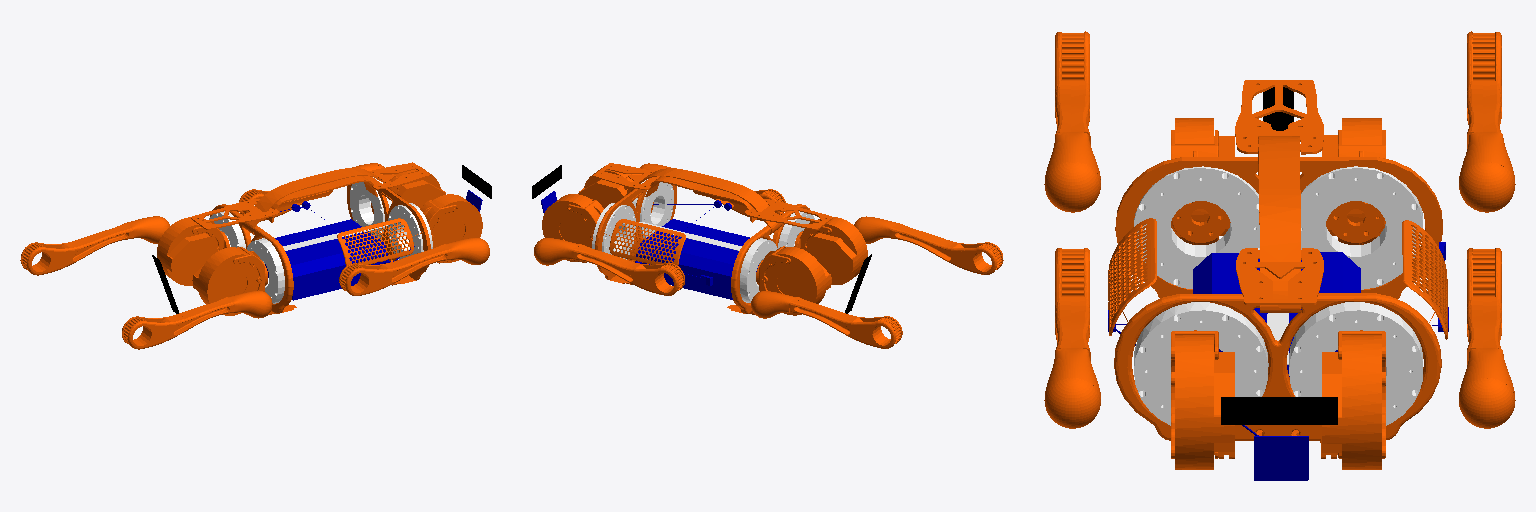
--- What the picture shows (computed from the rendered views, not written in the file) ---
3 views of the same robot in one strip: view 1: azimuth 30°, elevation 25°; view 2: azimuth 150°, elevation 25°; view 3: azimuth 270°, elevation 25° (orthographic).
Model ylo2_description with 29 links and 28 joints (12 revolute, 16 fixed), rooted at body, posed every joint at zero.
Links seen in each view (by area): view 1: trunk, abad_motors, battery, hip3, hip1, lower1, lower3, lower2, hip2, hip0, toe2, toe3 (+1 smaller); view 2: trunk, abad_motors, battery, hip1, hip3, lower0, lower3, lower1, hip0, hip2, toe1, toe0 (+1 smaller); view 3: trunk, abad_motors, hip2, hip0, hip1, hip3, toe1, toe0, toe2, toe3, lower0, lower1 (+6 smaller).
Boxes of the visible links, x1,y1,x2,y2 form: trunk: (191,162,430,315); abad_motors: (209,177,432,303); battery: (265,219,388,300); hip3: (193,247,267,315); hip1: (157,217,229,285); lower1: (20,223,133,275); lower3: (122,297,234,349); lower2: (339,244,451,295); hip2: (420,194,482,263); hip0: (371,166,445,213); toe2: (446,238,489,264); toe3: (228,291,272,318); trunk: (593,163,832,314); abad_motors: (592,179,814,302); battery: (636,219,758,299); hip1: (756,246,831,315); hip3: (794,217,867,284); lower0: (572,244,684,295); lower3: (890,223,1003,274); lower1: (789,297,902,348); hip0: (542,194,603,262); hip2: (578,164,653,212); toe1: (751,291,795,318); toe0: (534,238,578,265); trunk: (1108,80,1447,458); abad_motors: (1134,166,1422,425); hip2: (1171,330,1234,469); hip0: (1322,330,1385,469); hip1: (1322,118,1385,244); hip3: (1171,118,1234,244); toe1: (1459,132,1515,212); toe0: (1459,348,1515,428); toe2: (1044,348,1100,428); toe3: (1044,132,1100,212); lower0: (1467,248,1501,364); lower1: (1467,31,1501,148).
Size in the robot's own frame: 0.7021 by 0.3491 by 0.1793 metres.
Meshes: 11 distinct files referenced, 18 mesh visuals loaded (1 binary STL, 8 Collada DAE); not drawn: 5 (reference not matched to a file when rendering).

The robot description file, URDF, robot "ylo2_description":
<?xml version="1.0" ?>
<!-- =================================================================================== -->
<!-- |    This document was autogenerated by xacro from [local-path]/catkin_ws/src/quad-sdk-ylo2-real-robot/quad_simulator/ylo2_description/xacro/ylo2.xacro | -->
<!-- |    EDITING THIS FILE BY HAND IS NOT RECOMMENDED                                 | -->
<!-- =================================================================================== -->
<!-- file for use with quadruped-sdk ylo2 -->
<robot name="ylo2_description">
  <!-- à jour juillet 2023 -->
  <!-- lower leg size, from lower leg axis to end foot -->
  <!-- decalage hauteur axes pattes/abad - vertical difference HIP -> ABAD -->
  <!-- corps complet, sans moteurs, sans rplidar / à jour aout 2023 -->
  <!-- motor+fix+passe-cable+cable / à jour aout 2023 -->
  <!-- moteur+coques+pignon+axe+fixation hip+poulie nylon+passe-cable+cables / à jour aout 2023 -->
  <!-- à jour juillet 2023 -->
  <!-- à jour aout 2023 -->
  <material name="black">
    <color rgba="0.0 0.0 0.0 1.0"/>
  </material>
  <material name="blue">
    <color rgba="0.0 0.0 0.8 1.0"/>
  </material>
  <material name="green">
    <color rgba="0.0 0.8 0.0 1.0"/>
  </material>
  <material name="grey">
    <color rgba="0.2 0.2 0.2 1.0"/>
  </material>
  <material name="silver">
    <color rgba="0.9137254901960784 0.9137254901960784 0.8470588235294118 1.0"/>
  </material>
  <material name="orange">
    <color rgba="1.0 0.4235294117647059 0.0392156862745098 1.0"/>
  </material>
  <material name="brown">
    <color rgba="0.8705882352941177 0.8117647058823529 0.7647058823529411 1.0"/>
  </material>
  <material name="red">
    <color rgba="0.8 0.0 0.0 1.0"/>
  </material>
  <material name="white">
    <color rgba="1.0 1.0 1.0 1.0"/>
  </material>
  <!-- ros_control plugin -->
  <gazebo>
    <plugin filename="libgazebo_ros_control.so" name="gazebo_ros_control">
      <robotNamespace>/ylo2</robotNamespace>
      <robotSimType>gazebo_ros_control/DefaultRobotHWSim</robotSimType>
    </plugin>
    <plugin filename="libground_truth_estimator.so" name="ground_truth_estimator">
      <updateRateHZ>500.0</updateRateHZ>
    </plugin>
  </gazebo>
  <!-- Show the trajectory of trunk center. -->
  <!-- <gazebo>
        <plugin name="3dplot" filename="libLinkPlot3DPlugin.so">
            <frequency>10</frequency>
            <plot>
                <link>body</link>
                <pose>0 0 0 0 0 0</pose>
                <material>Gazebo/Yellow</material>
            </plot>
        </plugin>
    </gazebo> -->
  <!-- Show the trajectory of foot. You can add another trajectory about another foot. -->
  <!-- <gazebo>
        <plugin name="3dplot" filename="libLinkPlot3DPlugin.so">
            <frequency>100</frequency>
            <plot>
                <link>FL_foot</link>
                <pose>0 0 0 0 0 0</pose>
                <material>Gazebo/Green</material>
            </plot>
        </plugin>
    </gazebo> -->
  <gazebo>
    <plugin filename="libgazebo_ros_force.so" name="gazebo_ros_force">
      <bodyName>trunk</bodyName>
      <topicName>/apply_force/trunk</topicName>
    </plugin>
  </gazebo>
  <gazebo reference="imu_link">
    <gravity>true</gravity>
    <sensor name="imu_sensor" type="imu">
      <always_on>true</always_on>
      <update_rate>1000</update_rate>
      <visualize>true</visualize>
      <topic>__default_topic__</topic>
      <plugin filename="libgazebo_ros_imu_sensor.so" name="imu_plugin">
        <topicName>trunk_imu</topicName>
        <bodyName>imu_link</bodyName>
        <updateRateHZ>1000.0</updateRateHZ>
        <gaussianNoise>0.0</gaussianNoise>
        <xyzOffset>0 0 0</xyzOffset>
        <rpyOffset>0 0 0</rpyOffset>
        <frameName>imu_link</frameName>
      </plugin>
      <pose>0 0 0 0 0 0</pose>
    </sensor>
  </gazebo>
  <!-- Foot contacts. -->
  <!-- <gazebo reference="lower0">
        <sensor name="FR_foot_contact" type="contact">
        <update_rate>100</update_rate>
        <plugin name="contactPlugin" filename="libunitreeFootContactPlugin.so"/>
        <contact>
            <collision>FR_calf_fixed_joint_lump__FR_foot_collision_1</collision>
        </contact>
        </sensor>
    </gazebo>
    <gazebo reference="lower1">
        <sensor name="FL_foot_contact" type="contact">
        <update_rate>100</update_rate>
        <plugin name="contactPlugin" filename="libunitreeFootContactPlugin.so"/>
        <contact>
            <collision>FL_calf_fixed_joint_lump__FL_foot_collision_1</collision>
        </contact>
        </sensor>
    </gazebo>
    <gazebo reference="lower2">
        <sensor name="RR_foot_contact" type="contact">
        <update_rate>100</update_rate>
        <plugin name="contactPlugin" filename="libunitreeFootContactPlugin.so"/>
        <contact>
            <collision>RR_calf_fixed_joint_lump__RR_foot_collision_1</collision>
        </contact>
        </sensor>
    </gazebo>
    <gazebo reference="lower3">
        <sensor name="RL_foot_contact" type="contact">
        <update_rate>100</update_rate>
        <plugin name="contactPlugin" filename="libunitreeFootContactPlugin.so"/>
        <contact>
            <collision>RL_calf_fixed_joint_lump__RL_foot_collision_1</collision>
        </contact>
        </sensor>
    </gazebo> -->
  <gazebo reference="toe0">
    <sensor name="toe0_contact" type="contact">
      <plugin filename="libgazebo_ros_bumper.so" name="toe0_plugin">
        <alwaysOn>true</alwaysOn>
        <updateRate>500</updateRate>
        <bumperTopicName>gazebo/toe0_contact_state</bumperTopicName>
        <frameName>world</frameName>
      </plugin>
      <contact>
        <collision>toe0_collision</collision>
      </contact>
      <update_rate>500</update_rate>
    </sensor>
  </gazebo>
  <gazebo reference="toe1">
    <sensor name="toe1_contact" type="contact">
      <plugin filename="libgazebo_ros_bumper.so" name="toe1_plugin">
        <alwaysOn>true</alwaysOn>
        <updateRate>500</updateRate>
        <bumperTopicName>gazebo/toe1_contact_state</bumperTopicName>
        <frameName>world</frameName>
      </plugin>
      <contact>
        <collision>toe1_collision</collision>
      </contact>
      <update_rate>500</update_rate>
    </sensor>
  </gazebo>
  <gazebo reference="toe2">
    <sensor name="toe2_contact" type="contact">
      <plugin filename="libgazebo_ros_bumper.so" name="toe2_plugin">
        <alwaysOn>true</alwaysOn>
        <updateRate>500</updateRate>
        <bumperTopicName>gazebo/toe2_contact_state</bumperTopicName>
        <frameName>world</frameName>
      </plugin>
      <contact>
        <collision>toe2_collision</collision>
      </contact>
      <update_rate>500</update_rate>
    </sensor>
  </gazebo>
  <gazebo reference="toe3">
    <sensor name="toe3_contact" type="contact">
      <plugin filename="libgazebo_ros_bumper.so" name="toe3_plugin">
        <alwaysOn>true</alwaysOn>
        <updateRate>500</updateRate>
        <bumperTopicName>gazebo/toe3_contact_state</bumperTopicName>
        <frameName>world</frameName>
      </plugin>
      <contact>
        <collision>toe3_collision</collision>
      </contact>
      <update_rate>500</update_rate>
    </sensor>
  </gazebo>
  <!-- Visualization of Foot contacts. -->
  <!-- <gazebo reference="toe0">
        <visual>
            <plugin name="drawForcePlugin" filename="libunitreeDrawForcePlugin.so">
                <topicName>FR_foot_contact</topicName>
            </plugin>
        </visual>
    </gazebo>
    <gazebo reference="toe1">
        <visual>
            <plugin name="drawForcePlugin" filename="libunitreeDrawForcePlugin.so">
                <topicName>FL_foot_contact</topicName>
            </plugin>
        </visual>
    </gazebo>
    <gazebo reference="toe2">
        <visual>
            <plugin name="drawForcePlugin" filename="libunitreeDrawForcePlugin.so">
                <topicName>RR_foot_contact</topicName>
            </plugin>
        </visual>
    </gazebo>
    <gazebo reference="toe3">
        <visual>
            <plugin name="drawForcePlugin" filename="libunitreeDrawForcePlugin.so">
                <topicName>RL_foot_contact</topicName>
            </plugin>
        </visual>
    </gazebo> -->
  <gazebo reference="body">
    <material>Gazebo/Green</material>
    <turnGravityOff>false</turnGravityOff>
  </gazebo>
  <gazebo reference="trunk">
    <mu1>0.2</mu1>
    <mu2>0.2</mu2>
    <kp value="1000000.0"/>
    <kd value="1.0"/>
  </gazebo>
  <gazebo reference="stick_link">
    <mu1>0.2</mu1>
    <mu2>0.2</mu2>
    <material>Gazebo/White</material>
  </gazebo>
  <gazebo reference="imu_link">
    <mu1>0.2</mu1>
    <mu2>0.2</mu2>
    <material>Gazebo/Red</material>
  </gazebo>
  <!-- FL leg -->
  <gazebo reference="hip0">
    <mu1>0.2</mu1>
    <mu2>0.2</mu2>
    <material>Gazebo/DarkGrey</material>
  </gazebo>
  <gazebo reference="upper0">
    <mu1>0.2</mu1>
    <mu2>0.2</mu2>
    <self_collide>0</self_collide>
    <material>Gazebo/DarkGrey</material>
    <kp value="1000000.0"/>
    <kd value="1.0"/>
  </gazebo>
  <gazebo reference="lower0">
    <mu1>0.2</mu1>
    <mu2>0.2</mu2>
    <self_collide>0</self_collide>
  </gazebo>
  <gazebo reference="toe0">
    <mu1>0.6</mu1>
    <mu2>0.6</mu2>
    <self_collide>0</self_collide>
    <material>Gazebo/DarkGrey</material>
    <kp value="1000000.0"/>
    <kd value="1.0"/>
  </gazebo>
  <!-- RL leg -->
  <gazebo reference="hip1">
    <mu1>0.2</mu1>
    <mu2>0.2</mu2>
    <material>Gazebo/DarkGrey</material>
  </gazebo>
  <gazebo reference="upper1">
    <mu1>0.2</mu1>
    <mu2>0.2</mu2>
    <self_collide>0</self_collide>
    <material>Gazebo/DarkGrey</material>
    <kp value="1000000.0"/>
    <kd value="1.0"/>
  </gazebo>
  <gazebo reference="lower1">
    <mu1>0.2</mu1>
    <mu2>0.2</mu2>
    <self_collide>0</self_collide>
  </gazebo>
  <gazebo reference="toe1">
    <mu1>0.6</mu1>
    <mu2>0.6</mu2>
    <self_collide>0</self_collide>
    <material>Gazebo/DarkGrey</material>
    <kp value="1000000.0"/>
    <kd value="1.0"/>
  </gazebo>
  <!-- FR leg -->
  <gazebo reference="hip2">
    <mu1>0.2</mu1>
    <mu2>0.2</mu2>
    <material>Gazebo/DarkGrey</material>
  </gazebo>
  <gazebo reference="upper2">
    <mu1>0.2</mu1>
    <mu2>0.2</mu2>
    <self_collide>0</self_collide>
    <material>Gazebo/DarkGrey</material>
    <kp value="1000000.0"/>
    <kd value="1.0"/>
  </gazebo>
  <gazebo reference="lower2">
    <mu1>0.2</mu1>
    <mu2>0.2</mu2>
    <self_collide>0</self_collide>
  </gazebo>
  <gazebo reference="toe2">
    <mu1>0.6</mu1>
    <mu2>0.6</mu2>
    <self_collide>0</self_collide>
    <material>Gazebo/DarkGrey</material>
    <kp value="1000000.0"/>
    <kd value="1.0"/>
  </gazebo>
  <!-- RR leg -->
  <gazebo reference="hip3">
    <mu1>0.2</mu1>
    <mu2>0.2</mu2>
    <material>Gazebo/DarkGrey</material>
  </gazebo>
  <gazebo reference="upper3">
    <mu1>0.2</mu1>
    <mu2>0.2</mu2>
    <self_collide>0</self_collide>
    <material>Gazebo/DarkGrey</material>
    <kp value="1000000.0"/>
    <kd value="1.0"/>
  </gazebo>
  <gazebo reference="lower3">
    <mu1>0.2</mu1>
    <mu2>0.2</mu2>
    <self_collide>0</self_collide>
  </gazebo>
  <gazebo reference="toe3">
    <mu1>0.6</mu1>
    <mu2>0.6</mu2>
    <self_collide>0</self_collide>
    <material>Gazebo/DarkGrey</material>
    <kp value="1000000.0"/>
    <kd value="1.0"/>
  </gazebo>
  <link name="body">
    <visual>
      <origin rpy="0 0 0" xyz="0 0 0"/>
      <geometry>
        <box size="0.001 0.001 0.001"/>
      </geometry>
    </visual>
  </link>
  <joint name="floating_base" type="fixed">
    <origin rpy="0 0 0" xyz="0 0 0"/>
    <parent link="body"/>
    <child link="trunk"/>
  </joint>
  <link name="trunk">
    <visual name="body_visual">
      <origin rpy="0 0 0" xyz="0.0 0.0 0.0"/>
      <geometry>
        <mesh filename="package://ylo2_description/meshes/body/textured/ylo2_textured_body.dae" scale="1 1 1"/>
      </geometry>
      <material name="orange"/>
    </visual>
    <collision>
      <origin rpy="0 0 0" xyz="-0.02 0.003 0.024"/>
      <geometry>
        <box size="0.26 0.18 0.14"/>
      </geometry>
    </collision>
    <inertial>
      <origin rpy="0 0 0" xyz="0.03250797 0.00737083 0.03316464"/>
      <mass value="4.076"/>
      <inertia ixx="0.01982157" ixy="-2.989e-05" ixz="-0.0003756" iyy="0.0781948" iyz="-1.253e-05" izz="0.08412247"/>
    </inertial>
  </link>
  <link name="abad_motors">
    <visual>
      <origin rpy="0 0 0" xyz="0.0 0.0 0.0"/>
      <geometry>
        <mesh filename="package://ylo2_description/meshes/body/textured/ylo2_textured_abad_motors.dae" scale="1 1 1"/>
      </geometry>
      <material name="white"/>
    </visual>
  </link>
  <joint name="abad_motors_joint" type="fixed">
    <parent link="trunk"/>
    <child link="abad_motors"/>
    <origin rpy="0 0 0" xyz="0 0 0"/>
  </joint>
  <link name="battery">
    <visual>
      <origin rpy="0 0 0" xyz="0.0 0.0 0.0"/>
      <geometry>
        <mesh filename="package://ylo2_description/meshes/body/battery.stl" scale="1 1 1"/>
      </geometry>
      <material name="blue"/>
    </visual>
  </link>
  <joint name="battery_joint" type="fixed">
    <parent link="trunk"/>
    <child link="battery"/>
    <origin rpy="0 0 0" xyz="0 0 0"/>
  </joint>
  <link name="covers">
    <visual>
      <origin rpy="0 0 0" xyz="0.0 0.0 0.0"/>
      <geometry>
        <mesh filename="package://ylo2_description/meshes/body/textured/ylo2_textured_cover.dae" scale="1 1 1"/>
      </geometry>
      <material name="orange"/>
    </visual>
  </link>
  <joint name="covers_joint" type="fixed">
    <parent link="trunk"/>
    <child link="covers"/>
    <origin rpy="0 0 0" xyz="0 0 0"/>
  </joint>
  <link name="accessories">
    <visual>
      <origin rpy="0 0 0" xyz="0.0 0.0 0.0"/>
      <geometry>
        <mesh filename="package://ylo2_description/meshes/body/textured/accessories.dae" scale="1 1 1"/>
      </geometry>
      <material name="blue"/>
    </visual>
  </link>
  <joint name="accessories_joint" type="fixed">
    <parent link="trunk"/>
    <child link="accessories"/>
    <origin rpy="0 0 0" xyz="0 0 0"/>
  </joint>
  <link name="d435">
    <visual>
      <origin rpy="0 0 0" xyz="0.0 0.003 0.0"/>
      <geometry>
        <mesh filename="package://ylo2_description/meshes/body/textured/ylo2_d435_textured.dae" scale="1 1 1"/>
      </geometry>
      <material name="black"/>
    </visual>
  </link>
  <joint name="d435_joint" type="fixed">
    <parent link="trunk"/>
    <child link="d435"/>
    <origin rpy="0 0 0" xyz="0 0 0"/>
  </joint>
  <link name="t265">
    <visual>
      <origin rpy="0 0 0" xyz="0.002 0.0025 0.0"/>
      <geometry>
        <mesh filename="package://ylo2_description/meshes/body/textured/ylo2_t265_textured.dae" scale="1 1.06 1.04"/>
      </geometry>
      <material name="black"/>
    </visual>
  </link>
  <joint name="t265_joint" type="fixed">
    <parent link="trunk"/>
    <child link="t265"/>
    <origin rpy="0 0 0" xyz="0 0 0"/>
  </joint>
  <joint name="imu_joint" type="fixed">
    <parent link="trunk"/>
    <child link="imu_link"/>
    <origin rpy="0 0 0" xyz="0 0 0"/>
  </joint>
  <link name="imu_link">
    <inertial>
      <mass value="0.001"/>
      <origin rpy="0 0 0" xyz="0 0 0"/>
      <inertia ixx="0.0001" ixy="0" ixz="0" iyy="0.0001" iyz="0" izz="0.0001"/>
    </inertial>
    <visual>
      <origin rpy="0 0 0" xyz="0 0 0"/>
      <geometry>
        <box size="0.001 0.001 0.001"/>
      </geometry>
      <material name="red"/>
    </visual>
    <collision>
      <origin rpy="0 0 0" xyz="0 0 0"/>
      <geometry>
        <box size=".001 .001 .001"/>
      </geometry>
    </collision>
  </link>
  <link name="hip0">
    <visual name="hip0_visual">
      <origin rpy="0 0 0" xyz="-0.055 0 0"/>
      <geometry>
        <mesh filename="package://ylo2_description/meshes/leg/textured/ylo2texturedhip.dae" scale="1 1 1"/>
      </geometry>
      <material name="orange"/>
    </visual>
    <collision name="hip0_collision">
      <origin rpy="1.5707963267948966 0 0" xyz="0 0 0"/>
      <geometry>
        <cylinder length="0.0099" radius="0.05"/>
      </geometry>
    </collision>
    <inertial>
      <origin rpy="0 0 0" xyz="-0.01857801 -0.01030756 0.00689884"/>
      <mass value="0.552"/>
      <inertia ixx="0.00043998" ixy="-4.63e-06" ixz="-2.717e-05" iyy="0.0007018" iyz="-4.63e-06" izz="0.00043986"/>
    </inertial>
  </link>
  <joint name="8" type="revolute">
    <origin rpy="0 0 0" xyz="0.1695 0.063 0.024"/>
    <parent link="trunk"/>
    <child link="hip0"/>
    <axis xyz="1 0 0"/>
    <dynamics damping="0" friction="0"/>
    <limit effort="15" lower="-0.013962634015954637" upper="0.013962634015954637" velocity="40"/>
  </joint>
  <!-- this link is only for collision -->
  <link name="thigh_shoulder0">
    <collision>
      <origin rpy="1.5707963267948966 0 0" xyz="0 0 0"/>
      <geometry>
        <cylinder length="0.0553" radius="0.05"/>
      </geometry>
    </collision>
  </link>
  <joint name="hip0_fixed" type="fixed">
    <origin rpy="0 0 0" xyz="0 0.096 0"/>
    <parent link="hip0"/>
    <child link="thigh_shoulder0"/>
  </joint>
  <link name="upper0">
    <visual name="upper0_visual">
      <origin rpy="0 0 0" xyz="0 0 0.0"/>
      <geometry>
        <mesh filename="package://ylo2_description/meshes/leg/textured/ylo2_textured_upper_leg.dae" scale="1 1 1"/>
        --&gt;
                    
      </geometry>
      <material name="orange"/>
    </visual>
    <collision>
      <origin rpy="0 1.6207963267948966 0" xyz="0 0.074 -0.07"/>
      <geometry>
        <box size="0.201 0.0374 0.03"/>
      </geometry>
    </collision>
    <inertial>
      <origin rpy="0 0 0" xyz="0.01454697 0.06694306 -0.04580968"/>
      <mass value="1.009"/>
      <inertia ixx="0.0057361" ixy="1.51e-05" ixz="0.00039092" iyy="0.00562867" iyz="-3.266e-05" izz="0.00096304"/>
    </inertial>
  </link>
  <joint name="0" type="revolute">
    <origin rpy="0 1.5707963267948966 0" xyz="0.0 0.02 0"/>
    <parent link="hip0"/>
    <child link="upper0"/>
    <axis xyz="0 -1 0"/>
    <dynamics damping="0" friction="0"/>
    <limit effort="15" lower="-6.283185307179586" upper="6.283185307179586" velocity="40"/>
  </joint>
  <link name="lower0">
    <visual name="lower0_visual">
      <origin rpy="0 0 0" xyz="0 0 0"/>
      <geometry>
        <mesh filename="package://ylo2_description/meshes/leg/textured/lower_leg.dae" scale="1 1 1"/>
        --&gt;
                
      </geometry>
      <material name="orange"/>
    </visual>
    <collision>
      <origin rpy="0 1.4707963267948965 0" xyz="0 0 -0.08"/>
      <geometry>
        <box size="0.19 0.02 0.02"/>
      </geometry>
    </collision>
    <inertial>
      <origin rpy="0 0 0" xyz="0.00198597 0.00042353 -0.05849061"/>
      <mass value="0.235"/>
      <inertia ixx="0.00065666" ixy="0.0" ixz="3.548e-05" iyy="0.00067446" iyz="-0.0" izz="4.729e-05"/>
    </inertial>
  </link>
  <joint name="1" type="revolute">
    <origin rpy="0 -3.141592653589793 0" xyz="-0.001 0.075 -0.215"/>
    <parent link="upper0"/>
    <child link="lower0"/>
    <axis xyz="0 1 0"/>
    <dynamics damping="0" friction="0"/>
    <limit effort="45" lower="-6.283185307179586" upper="6.283185307179586" velocity="13.33"/>
  </joint>
  <link name="toe0">
    <visual name="toe0_visual">
      <origin rpy="0 0 0" xyz="0.009 0.002 0.069"/>
      <geometry>
        <mesh filename="package://ylo2_description/meshes/leg/fl_foot.dae" scale="1.0 1.0 1.0"/>
        --&gt;
                
      </geometry>
      <material name="orange"/>
    </visual>
    <collision name="toe0_collision">
      <origin rpy="0 0 0" xyz="0 0 0.02"/>
      <geometry>
        <sphere radius="0.022"/>
      </geometry>
      <surface>
        <bounce>
          <restitution_coefficient>0</restitution_coefficient>
          <threshold>1e+06</threshold>
        </bounce>
        <friction>
          <ode>
            <mu>0.2</mu>
            <mu2>0.2</mu2>
          </ode>
          <bullet>
            <rolling_friction>0.3</rolling_friction>
            <friction2>50</friction2>
          </bullet>
        </friction>
        <contact>
          <ode>
            <kp>30000.0</kp>
            <kd>1000.0</kd>
          </ode>
          <bullet>
            <kp>30000.0</kp>
            <kd>1000.0</kd>
            <split_impulse>1</split_impulse>
            <split_impulse_penetration_threshold>-0.01</split_impulse_penetration_threshold>
          </bullet>
        </contact>
      </surface>
    </collision>
    <inertial>
      <mass value="0.035"/>
      <inertia ixx="9.8315e-06" ixy="0.0" ixz="0.0" iyy="9.8315e-06" iyz="0.0" izz="9.8315e-06"/>
    </inertial>
  </link>
  <joint name="jtoe0" type="fixed">
    <origin rpy="0 0 0" xyz="0 0 -0.23"/>
    <parent link="lower0"/>
    <child link="toe0"/>
  </joint>
  <transmission name="transmission_8">
    <type>transmission_interface/SimpleTransmission</type>
    <joint name="8">
      <hardwareInterface>hardware_interface/EffortJointInterface</hardwareInterface>
    </joint>
    <actuator name="motor_8">
      <hardwareInterface>EffortJointInterface</hardwareInterface>
      <mechanicalReduction>1</mechanicalReduction>
    </actuator>
  </transmission>
  <transmission name="transmission_0">
    <type>transmission_interface/SimpleTransmission</type>
    <joint name="0">
      <hardwareInterface>hardware_interface/EffortJointInterface</hardwareInterface>
    </joint>
    <actuator name="motor_0">
      <hardwareInterface>EffortJointInterface</hardwareInterface>
      <mechanicalReduction>1</mechanicalReduction>
    </actuator>
  </transmission>
  <transmission name="transmission_1">
    <type>transmission_interface/SimpleTransmission</type>
    <joint name="1">
      <hardwareInterface>hardware_interface/EffortJointInterface</hardwareInterface>
    </joint>
    <actuator name="motor_1">
      <hardwareInterface>EffortJointInterface</hardwareInterface>
      <mechanicalReduction>1</mechanicalReduction>
    </actuator>
  </transmission>
  <link name="hip1">
    <visual name="hip1_visual">
      <origin rpy="0 3.141592653589793 0" xyz="0.055 0 0"/>
      <geometry>
        <mesh filename="package://ylo2_description/meshes/leg/textured/ylo2texturedhip.dae" scale="1 1 1"/>
      </geometry>
      <material name="orange"/>
    </visual>
    <collision name="hip1_collision">
      <origin rpy="1.5707963267948966 0 0" xyz="0 0 0"/>
      <geometry>
        <cylinder length="0.0099" radius="0.05"/>
      </geometry>
    </collision>
    <inertial>
      <origin rpy="0 0 0" xyz="0.01857801 -0.01030756 0.00689884"/>
      <mass value="0.552"/>
      <inertia ixx="0.00043998" ixy="4.63e-06" ixz="2.717e-05" iyy="0.0007018" iyz="-4.63e-06" izz="0.00043986"/>
    </inertial>
  </link>
  <joint name="9" type="revolute">
    <origin rpy="0 0 0" xyz="-0.20950000000000002 0.063 0.024"/>
    <parent link="trunk"/>
    <child link="hip1"/>
    <axis xyz="1 0 0"/>
    <dynamics damping="0" friction="0"/>
    <limit effort="15" lower="-0.013962634015954637" upper="0.013962634015954637" velocity="40"/>
  </joint>
  <!-- this link is only for collision -->
  <link name="thigh_shoulder1">
    <collision>
      <origin rpy="1.5707963267948966 0 0" xyz="0 0 0"/>
      <geometry>
        <cylinder length="0.0553" radius="0.05"/>
      </geometry>
    </collision>
  </link>
  <joint name="hip1_fixed" type="fixed">
    <origin rpy="0 0 0" xyz="0 0.096 0"/>
    <parent link="hip1"/>
    <child link="thigh_shoulder1"/>
  </joint>
  <link name="upper1">
    <visual name="upper1_visual">
      <origin rpy="0 0 0" xyz="0 0 0.0"/>
      <geometry>
        <mesh filename="package://ylo2_description/meshes/leg/textured/ylo2_textured_upper_leg.dae" scale="1 1 1"/>
        --&gt;
                    
      </geometry>
      <material name="orange"/>
    </visual>
    <collision>
      <origin rpy="0 1.6207963267948966 0" xyz="0 0.074 -0.07"/>
      <geometry>
        <box size="0.201 0.0374 0.03"/>
      </geometry>
    </collision>
    <inertial>
      <origin rpy="0 0 0" xyz="0.01454697 0.06694306 -0.04580968"/>
      <mass value="1.009"/>
      <inertia ixx="0.0057361" ixy="1.51e-05" ixz="0.00039092" iyy="0.00562867" iyz="-3.266e-05" izz="0.00096304"/>
    </inertial>
  </link>
  <joint name="2" type="revolute">
    <origin rpy="0 1.5707963267948966 0" xyz="0.0 0.02 0"/>
    <parent link="hip1"/>
    <child link="upper1"/>
    <axis xyz="0 -1 0"/>
    <dynamics damping="0" friction="0"/>
    <limit effort="15" lower="-6.283185307179586" upper="6.283185307179586" velocity="40"/>
  </joint>
  <link name="lower1">
    <visual name="lower1_visual">
      <origin rpy="0 0 0" xyz="0 0 0"/>
      <geometry>
        <mesh filename="package://ylo2_description/meshes/leg/textured/lower_leg.dae" scale="1 1 1"/>
        --&gt;
                
      </geometry>
      <material name="orange"/>
    </visual>
    <collision>
      <origin rpy="0 1.4707963267948965 0" xyz="0 0 -0.08"/>
      <geometry>
        <box size="0.19 0.02 0.02"/>
      </geometry>
    </collision>
    <inertial>
      <origin rpy="0 0 0" xyz="0.00198597 0.00042353 -0.05849061"/>
      <mass value="0.235"/>
      <inertia ixx="0.00065666" ixy="0.0" ixz="3.548e-05" iyy="0.00067446" iyz="-0.0" izz="4.729e-05"/>
    </inertial>
  </link>
  <joint name="3" type="revolute">
    <origin rpy="0 -3.141592653589793 0" xyz="-0.001 0.075 -0.215"/>
    <parent link="upper1"/>
    <child link="lower1"/>
    <axis xyz="0 1 0"/>
    <dynamics damping="0" friction="0"/>
    <limit effort="45" lower="-6.283185307179586" upper="6.283185307179586" velocity="13.33"/>
  </joint>
  <link name="toe1">
    <visual name="toe1_visual">
      <origin rpy="0 0 0" xyz="0.009 0.002 0.069"/>
      <geometry>
        <mesh filename="package://ylo2_description/meshes/leg/fl_foot.dae" scale="1.0 1.0 1.0"/>
        --&gt;
                
      </geometry>
      <material name="orange"/>
    </visual>
    <collision name="toe1_collision">
      <origin rpy="0 0 0" xyz="0 0 0.02"/>
      <geometry>
        <sphere radius="0.022"/>
      </geometry>
      <surface>
        <bounce>
          <restitution_coefficient>0</restitution_coefficient>
          <threshold>1e+06</threshold>
        </bounce>
        <friction>
          <ode>
            <mu>0.2</mu>
            <mu2>0.2</mu2>
          </ode>
          <bullet>
            <rolling_friction>0.3</rolling_friction>
            <friction2>50</friction2>
          </bullet>
        </friction>
        <contact>
          <ode>
            <kp>30000.0</kp>
            <kd>1000.0</kd>
          </ode>
          <bullet>
            <kp>30000.0</kp>
            <kd>1000.0</kd>
            <split_impulse>1</split_impulse>
            <split_impulse_penetration_threshold>-0.01</split_impulse_penetration_threshold>
          </bullet>
        </contact>
      </surface>
    </collision>
    <inertial>
      <mass value="0.035"/>
      <inertia ixx="9.8315e-06" ixy="0.0" ixz="0.0" iyy="9.8315e-06" iyz="0.0" izz="9.8315e-06"/>
    </inertial>
  </link>
  <joint name="jtoe1" type="fixed">
    <origin rpy="0 0 0" xyz="0 0 -0.23"/>
    <parent link="lower1"/>
    <child link="toe1"/>
  </joint>
  <transmission name="transmission_9">
    <type>transmission_interface/SimpleTransmission</type>
    <joint name="9">
      <hardwareInterface>hardware_interface/EffortJointInterface</hardwareInterface>
    </joint>
    <actuator name="motor_9">
      <hardwareInterface>EffortJointInterface</hardwareInterface>
      <mechanicalReduction>1</mechanicalReduction>
    </actuator>
  </transmission>
  <transmission name="transmission_2">
    <type>transmission_interface/SimpleTransmission</type>
    <joint name="2">
      <hardwareInterface>hardware_interface/EffortJointInterface</hardwareInterface>
    </joint>
    <actuator name="motor_2">
      <hardwareInterface>EffortJointInterface</hardwareInterface>
      <mechanicalReduction>1</mechanicalReduction>
    </actuator>
  </transmission>
  <transmission name="transmission_3">
    <type>transmission_interface/SimpleTransmission</type>
    <joint name="3">
      <hardwareInterface>hardware_interface/EffortJointInterface</hardwareInterface>
    </joint>
    <actuator name="motor_3">
      <hardwareInterface>EffortJointInterface</hardwareInterface>
      <mechanicalReduction>1</mechanicalReduction>
    </actuator>
  </transmission>
  <link name="hip2">
    <visual name="hip2_visual">
      <origin rpy="3.141592653589793 0 0" xyz="-0.055 0 0"/>
      <geometry>
        <mesh filename="package://ylo2_description/meshes/leg/textured/ylo2texturedhip.dae" scale="1 1 1"/>
      </geometry>
      <material name="orange"/>
    </visual>
    <collision name="hip2_collision">
      <origin rpy="1.5707963267948966 0 0" xyz="0 0 0"/>
      <geometry>
        <cylinder length="0.0099" radius="0.05"/>
      </geometry>
    </collision>
    <inertial>
      <origin rpy="0 0 0" xyz="-0.01857801 0.01030756 0.00689884"/>
      <mass value="0.552"/>
      <inertia ixx="0.00043998" ixy="4.63e-06" ixz="-2.717e-05" iyy="0.0007018" iyz="4.63e-06" izz="0.00043986"/>
    </inertial>
  </link>
  <joint name="10" type="revolute">
    <origin rpy="0 0 0" xyz="0.1695 -0.052000000000000005 0.024"/>
    <parent link="trunk"/>
    <child link="hip2"/>
    <axis xyz="1 0 0"/>
    <dynamics damping="0" friction="0"/>
    <limit effort="15" lower="-0.013962634015954637" upper="0.013962634015954637" velocity="40"/>
  </joint>
  <!-- this link is only for collision -->
  <link name="thigh_shoulder2">
    <collision>
      <origin rpy="1.5707963267948966 0 0" xyz="0 0 0"/>
      <geometry>
        <cylinder length="0.0553" radius="0.05"/>
      </geometry>
    </collision>
  </link>
  <joint name="hip2_fixed" type="fixed">
    <origin rpy="0 0 0" xyz="0 -0.096 0"/>
    <parent link="hip2"/>
    <child link="thigh_shoulder2"/>
  </joint>
  <link name="upper2">
    <visual name="upper2_visual">
      <origin rpy="0 0 0" xyz="0 0 0.0"/>
      <geometry>
        <mesh filename="package://ylo2_description/meshes/leg/textured/ylo2_textured_upper_leg.dae" scale="1 -1 1"/>
        --&gt;
                    
      </geometry>
      <material name="orange"/>
    </visual>
    <collision>
      <origin rpy="0 1.6207963267948966 0" xyz="0 -0.074 -0.07"/>
      <geometry>
        <box size="0.201 0.0374 0.03"/>
      </geometry>
    </collision>
    <inertial>
      <origin rpy="0 0 0" xyz="0.01454697 -0.06694306 -0.04580968"/>
      <mass value="1.009"/>
      <inertia ixx="0.0057361" ixy="-1.51e-05" ixz="0.00039092" iyy="0.00562867" iyz="3.266e-05" izz="0.00096304"/>
    </inertial>
  </link>
  <joint name="4" type="revolute">
    <origin rpy="0 1.5707963267948966 0" xyz="0.0 -0.02 0"/>
    <parent link="hip2"/>
    <child link="upper2"/>
    <axis xyz="0 -1 0"/>
    <dynamics damping="0" friction="0"/>
    <limit effort="15" lower="-6.283185307179586" upper="6.283185307179586" velocity="40"/>
  </joint>
  <link name="lower2">
    <visual name="lower2_visual">
      <origin rpy="0 0 0" xyz="0 0 0"/>
      <geometry>
        <mesh filename="package://ylo2_description/meshes/leg/textured/lower_leg.dae" scale="1 1 1"/>
        --&gt;
                
      </geometry>
      <material name="orange"/>
    </visual>
    <collision>
      <origin rpy="0 1.4707963267948965 0" xyz="0 0 -0.08"/>
      <geometry>
        <box size="0.19 0.02 0.02"/>
      </geometry>
    </collision>
    <inertial>
      <origin rpy="0 0 0" xyz="0.00198597 0.00042353 -0.05849061"/>
      <mass value="0.235"/>
      <inertia ixx="0.00065666" ixy="0.0" ixz="3.548e-05" iyy="0.00067446" iyz="-0.0" izz="4.729e-05"/>
    </inertial>
  </link>
  <joint name="5" type="revolute">
    <origin rpy="0 -3.141592653589793 0" xyz="-0.001 -0.075 -0.215"/>
    <parent link="upper2"/>
    <child link="lower2"/>
    <axis xyz="0 1 0"/>
    <dynamics damping="0" friction="0"/>
    <limit effort="45" lower="-6.283185307179586" upper="6.283185307179586" velocity="13.33"/>
  </joint>
  <link name="toe2">
    <visual name="toe2_visual">
      <origin rpy="0 0 0" xyz="0.009 0.0 0.069"/>
      <geometry>
        <mesh filename="package://ylo2_description/meshes/leg/fl_foot.dae" scale="1.0 1.0 1.0"/>
        --&gt;
                
      </geometry>
      <material name="orange"/>
    </visual>
    <collision name="toe2_collision">
      <origin rpy="0 0 0" xyz="0 0 0.02"/>
      <geometry>
        <sphere radius="0.022"/>
      </geometry>
      <surface>
        <bounce>
          <restitution_coefficient>0</restitution_coefficient>
          <threshold>1e+06</threshold>
        </bounce>
        <friction>
          <ode>
            <mu>0.2</mu>
            <mu2>0.2</mu2>
          </ode>
          <bullet>
            <rolling_friction>0.3</rolling_friction>
            <friction2>50</friction2>
          </bullet>
        </friction>
        <contact>
          <ode>
            <kp>30000.0</kp>
            <kd>1000.0</kd>
          </ode>
          <bullet>
            <kp>30000.0</kp>
            <kd>1000.0</kd>
            <split_impulse>1</split_impulse>
            <split_impulse_penetration_threshold>-0.01</split_impulse_penetration_threshold>
          </bullet>
        </contact>
      </surface>
    </collision>
    <inertial>
      <mass value="0.035"/>
      <inertia ixx="9.8315e-06" ixy="0.0" ixz="0.0" iyy="9.8315e-06" iyz="0.0" izz="9.8315e-06"/>
    </inertial>
  </link>
  <joint name="jtoe2" type="fixed">
    <origin rpy="0 0 0" xyz="0 0 -0.23"/>
    <parent link="lower2"/>
    <child link="toe2"/>
  </joint>
  <transmission name="transmission_10">
    <type>transmission_interface/SimpleTransmission</type>
    <joint name="10">
      <hardwareInterface>hardware_interface/EffortJointInterface</hardwareInterface>
    </joint>
    <actuator name="motor_10">
      <hardwareInterface>EffortJointInterface</hardwareInterface>
      <mechanicalReduction>1</mechanicalReduction>
    </actuator>
  </transmission>
  <transmission name="transmission_4">
    <type>transmission_interface/SimpleTransmission</type>
    <joint name="4">
      <hardwareInterface>hardware_interface/EffortJointInterface</hardwareInterface>
    </joint>
    <actuator name="motor_4">
      <hardwareInterface>EffortJointInterface</hardwareInterface>
      <mechanicalReduction>1</mechanicalReduction>
    </actuator>
  </transmission>
  <transmission name="transmission_5">
    <type>transmission_interface/SimpleTransmission</type>
    <joint name="5">
      <hardwareInterface>hardware_interface/EffortJointInterface</hardwareInterface>
    </joint>
    <actuator name="motor_5">
      <hardwareInterface>EffortJointInterface</hardwareInterface>
      <mechanicalReduction>1</mechanicalReduction>
    </actuator>
  </transmission>
  <link name="hip3">
    <visual name="hip3_visual">
      <origin rpy="3.141592653589793 3.141592653589793 0" xyz="0.055 0 0"/>
      <geometry>
        <mesh filename="package://ylo2_description/meshes/leg/textured/ylo2texturedhip.dae" scale="1 1 1"/>
      </geometry>
      <material name="orange"/>
    </visual>
    <collision name="hip3_collision">
      <origin rpy="1.5707963267948966 0 0" xyz="0 0 0"/>
      <geometry>
        <cylinder length="0.0099" radius="0.05"/>
      </geometry>
    </collision>
    <inertial>
      <origin rpy="0 0 0" xyz="0.01857801 0.01030756 0.00689884"/>
      <mass value="0.552"/>
      <inertia ixx="0.00043998" ixy="-4.63e-06" ixz="2.717e-05" iyy="0.0007018" iyz="4.63e-06" izz="0.00043986"/>
    </inertial>
  </link>
  <joint name="11" type="revolute">
    <origin rpy="0 0 0" xyz="-0.20950000000000002 -0.052000000000000005 0.024"/>
    <parent link="trunk"/>
    <child link="hip3"/>
    <axis xyz="1 0 0"/>
    <dynamics damping="0" friction="0"/>
    <limit effort="15" lower="-0.013962634015954637" upper="0.013962634015954637" velocity="40"/>
  </joint>
  <!-- this link is only for collision -->
  <link name="thigh_shoulder3">
    <collision>
      <origin rpy="1.5707963267948966 0 0" xyz="0 0 0"/>
      <geometry>
        <cylinder length="0.0553" radius="0.05"/>
      </geometry>
    </collision>
  </link>
  <joint name="hip3_fixed" type="fixed">
    <origin rpy="0 0 0" xyz="0 -0.096 0"/>
    <parent link="hip3"/>
    <child link="thigh_shoulder3"/>
  </joint>
  <link name="upper3">
    <visual name="upper3_visual">
      <origin rpy="0 0 0" xyz="0 0 0.0"/>
      <geometry>
        <mesh filename="package://ylo2_description/meshes/leg/textured/ylo2_textured_upper_leg.dae" scale="1 -1 1"/>
        --&gt;
                    
      </geometry>
      <material name="orange"/>
    </visual>
    <collision>
      <origin rpy="0 1.6207963267948966 0" xyz="0 -0.074 -0.07"/>
      <geometry>
        <box size="0.201 0.0374 0.03"/>
      </geometry>
    </collision>
    <inertial>
      <origin rpy="0 0 0" xyz="0.01454697 -0.06694306 -0.04580968"/>
      <mass value="1.009"/>
      <inertia ixx="0.0057361" ixy="-1.51e-05" ixz="0.00039092" iyy="0.00562867" iyz="3.266e-05" izz="0.00096304"/>
    </inertial>
  </link>
  <joint name="6" type="revolute">
    <origin rpy="0 1.5707963267948966 0" xyz="0.0 -0.02 0"/>
    <parent link="hip3"/>
    <child link="upper3"/>
    <axis xyz="0 -1 0"/>
    <dynamics damping="0" friction="0"/>
    <limit effort="15" lower="-6.283185307179586" upper="6.283185307179586" velocity="40"/>
  </joint>
  <link name="lower3">
    <visual name="lower3_visual">
      <origin rpy="0 0 0" xyz="0 0 0"/>
      <geometry>
        <mesh filename="package://ylo2_description/meshes/leg/textured/lower_leg.dae" scale="1 1 1"/>
        --&gt;
                
      </geometry>
      <material name="orange"/>
    </visual>
    <collision>
      <origin rpy="0 1.4707963267948965 0" xyz="0 0 -0.08"/>
      <geometry>
        <box size="0.19 0.02 0.02"/>
      </geometry>
    </collision>
    <inertial>
      <origin rpy="0 0 0" xyz="0.00198597 0.00042353 -0.05849061"/>
      <mass value="0.235"/>
      <inertia ixx="0.00065666" ixy="0.0" ixz="3.548e-05" iyy="0.00067446" iyz="-0.0" izz="4.729e-05"/>
    </inertial>
  </link>
  <joint name="7" type="revolute">
    <origin rpy="0 -3.141592653589793 0" xyz="-0.001 -0.075 -0.215"/>
    <parent link="upper3"/>
    <child link="lower3"/>
    <axis xyz="0 1 0"/>
    <dynamics damping="0" friction="0"/>
    <limit effort="45" lower="-6.283185307179586" upper="6.283185307179586" velocity="13.33"/>
  </joint>
  <link name="toe3">
    <visual name="toe3_visual">
      <origin rpy="0 0 0" xyz="0.009 0.0 0.069"/>
      <geometry>
        <mesh filename="package://ylo2_description/meshes/leg/fl_foot.dae" scale="1.0 1.0 1.0"/>
        --&gt;
                
      </geometry>
      <material name="orange"/>
    </visual>
    <collision name="toe3_collision">
      <origin rpy="0 0 0" xyz="0 0 0.02"/>
      <geometry>
        <sphere radius="0.022"/>
      </geometry>
      <surface>
        <bounce>
          <restitution_coefficient>0</restitution_coefficient>
          <threshold>1e+06</threshold>
        </bounce>
        <friction>
          <ode>
            <mu>0.2</mu>
            <mu2>0.2</mu2>
          </ode>
          <bullet>
            <rolling_friction>0.3</rolling_friction>
            <friction2>50</friction2>
          </bullet>
        </friction>
        <contact>
          <ode>
            <kp>30000.0</kp>
            <kd>1000.0</kd>
          </ode>
          <bullet>
            <kp>30000.0</kp>
            <kd>1000.0</kd>
            <split_impulse>1</split_impulse>
            <split_impulse_penetration_threshold>-0.01</split_impulse_penetration_threshold>
          </bullet>
        </contact>
      </surface>
    </collision>
    <inertial>
      <mass value="0.035"/>
      <inertia ixx="9.8315e-06" ixy="0.0" ixz="0.0" iyy="9.8315e-06" iyz="0.0" izz="9.8315e-06"/>
    </inertial>
  </link>
  <joint name="jtoe3" type="fixed">
    <origin rpy="0 0 0" xyz="0 0 -0.23"/>
    <parent link="lower3"/>
    <child link="toe3"/>
  </joint>
  <transmission name="transmission_11">
    <type>transmission_interface/SimpleTransmission</type>
    <joint name="11">
      <hardwareInterface>hardware_interface/EffortJointInterface</hardwareInterface>
    </joint>
    <actuator name="motor_11">
      <hardwareInterface>EffortJointInterface</hardwareInterface>
      <mechanicalReduction>1</mechanicalReduction>
    </actuator>
  </transmission>
  <transmission name="transmission_6">
    <type>transmission_interface/SimpleTransmission</type>
    <joint name="6">
      <hardwareInterface>hardware_interface/EffortJointInterface</hardwareInterface>
    </joint>
    <actuator name="motor_6">
      <hardwareInterface>EffortJointInterface</hardwareInterface>
      <mechanicalReduction>1</mechanicalReduction>
    </actuator>
  </transmission>
  <transmission name="transmission_7">
    <type>transmission_interface/SimpleTransmission</type>
    <joint name="7">
      <hardwareInterface>hardware_interface/EffortJointInterface</hardwareInterface>
    </joint>
    <actuator name="motor_7">
      <hardwareInterface>EffortJointInterface</hardwareInterface>
      <mechanicalReduction>1</mechanicalReduction>
    </actuator>
  </transmission>
</robot>
